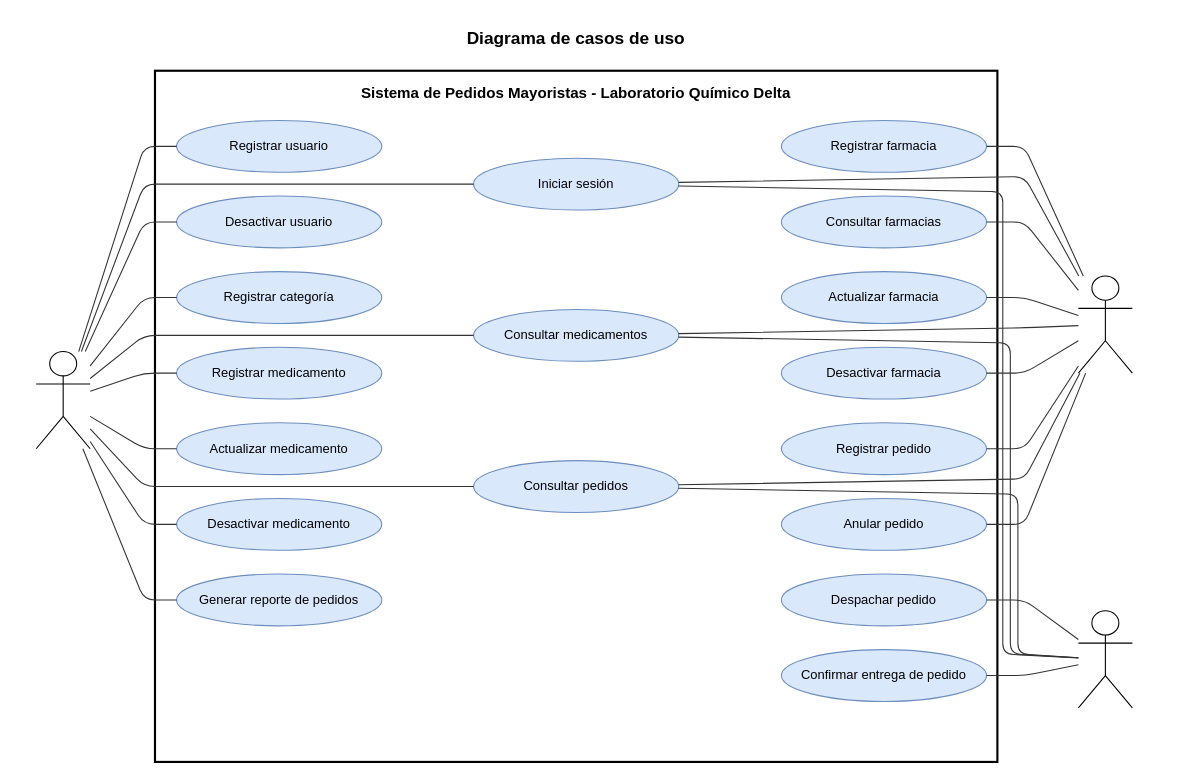
This 1194x781 diagram has some shape labels left out. Each missing label, with the box of its shape:
Administrador: (35, 350, 90, 449)
Ejecutivo de ventas: (1077, 275, 1132, 373)
Encargado de almacén: (1077, 610, 1132, 708)
